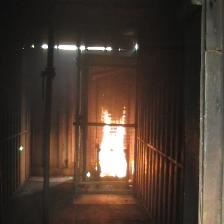fire: (99, 107, 128, 177)
